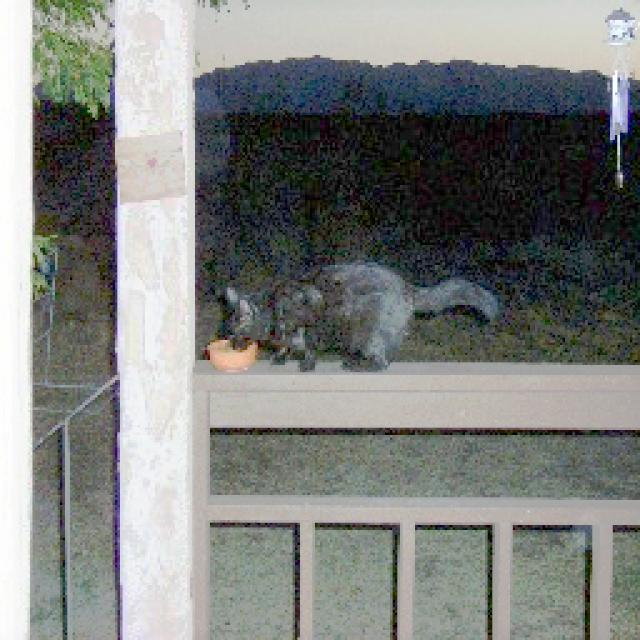cat: (179, 218, 506, 408)
